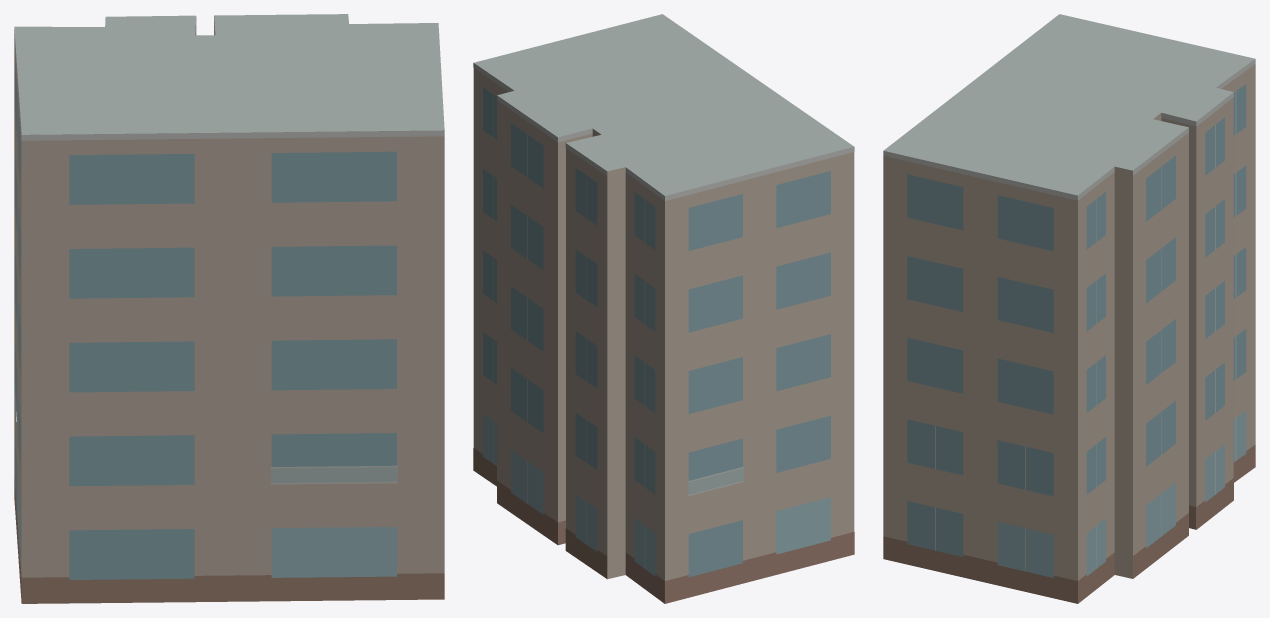
Rendered from survey-upis-32772542.glb.
3 views of the same model, side by side, from view 1: azimuth 30°, elevation 25°; view 2: azimuth 150°, elevation 25°; view 3: azimuth 270°, elevation 25° (orthographic). The views are drawn at different scales.
Visible parts, largest first — view 1: survey-upis-32772542.tmp; view 2: survey-upis-32772542.tmp; view 3: survey-upis-32772542.tmp.
Part boxes in pixels (x1,y1,x2,y2): survey-upis-32772542.tmp: [14, 14, 444, 603]; survey-upis-32772542.tmp: [473, 14, 854, 603]; survey-upis-32772542.tmp: [883, 14, 1255, 603].
Size of the model in its own units: 18.8 by 19.7 by 16.29.
